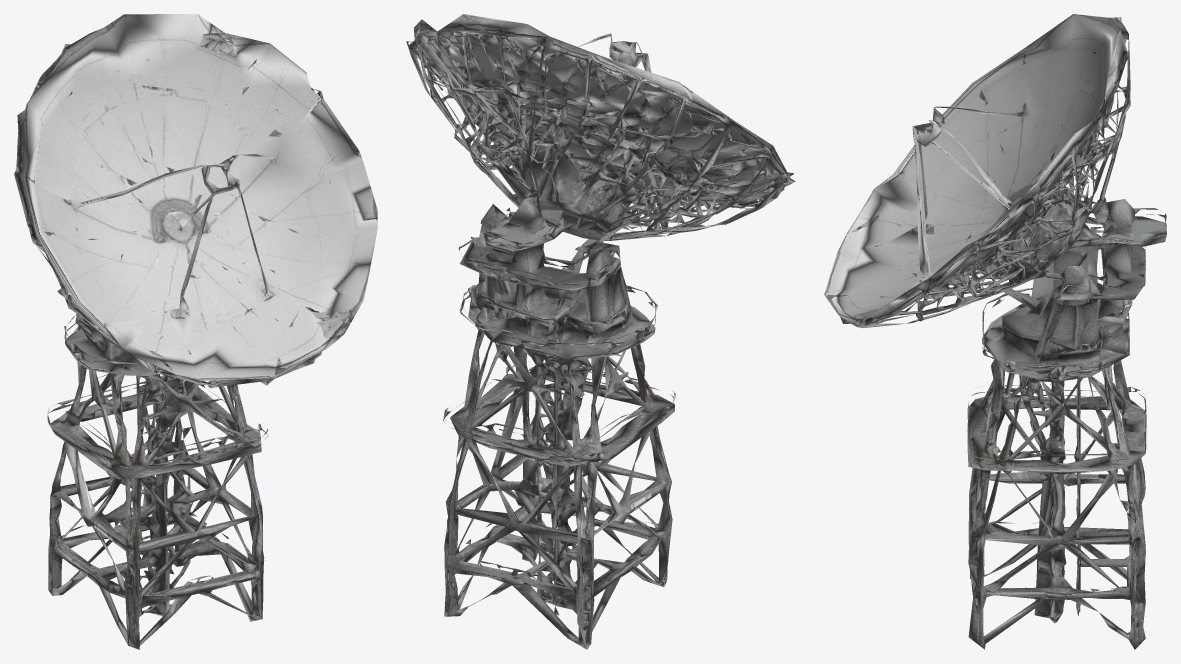
File: phalanx.glb
3 renders of one model, left to right at view 1: azimuth 30°, elevation 25°; view 2: azimuth 150°, elevation 25°; view 3: azimuth 270°, elevation 25°, orthographic. The views are drawn at different scales.
Bounding box in the file's own units: 1.13 × 1.9 × 1.01.
Materials: 1 (1 with a texture image).
